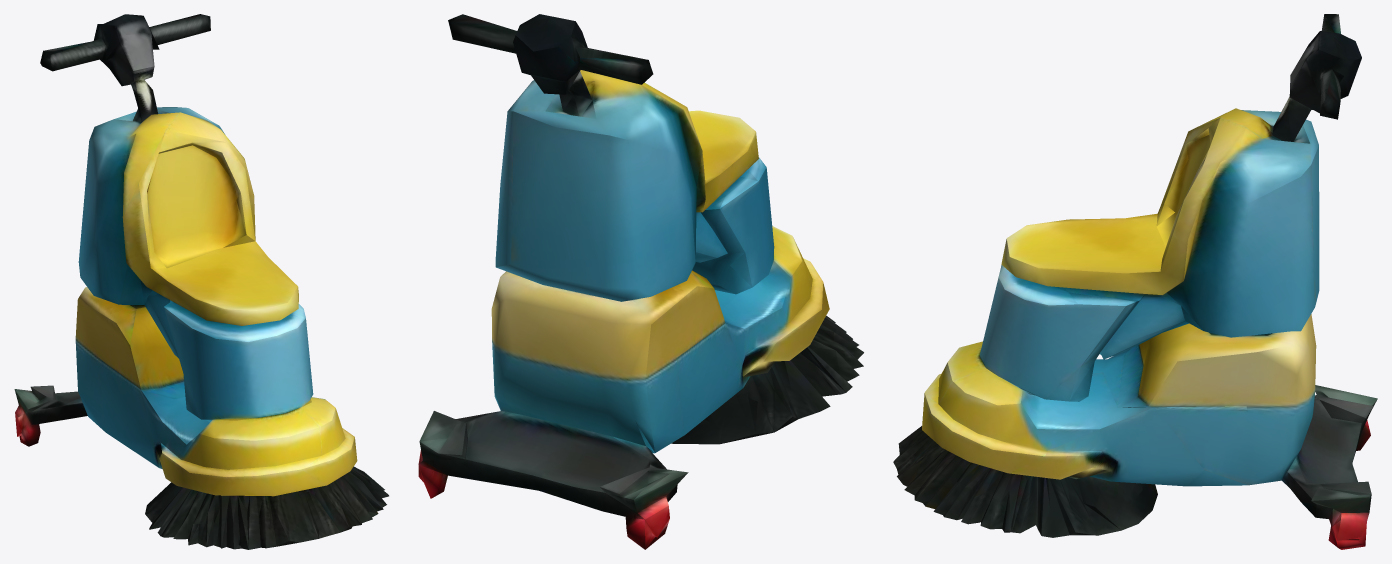
The model's file is floorScrubber.glb.
3 views of the same model, side by side, from view 1: azimuth 30°, elevation 25°; view 2: azimuth 150°, elevation 25°; view 3: azimuth 270°, elevation 25° (orthographic). The views are drawn at different scales.
Parts seen in each view (by area): view 1: model; view 2: model; view 3: model.
Part boxes in pixels (box(x1,y1,x2,y2)): model: box(14, 14, 388, 549); model: box(418, 14, 863, 549); model: box(893, 14, 1377, 549).
Bounding box in the file's own units: 1.03 × 1.9 × 1.8.
1 material, 1 textured.
